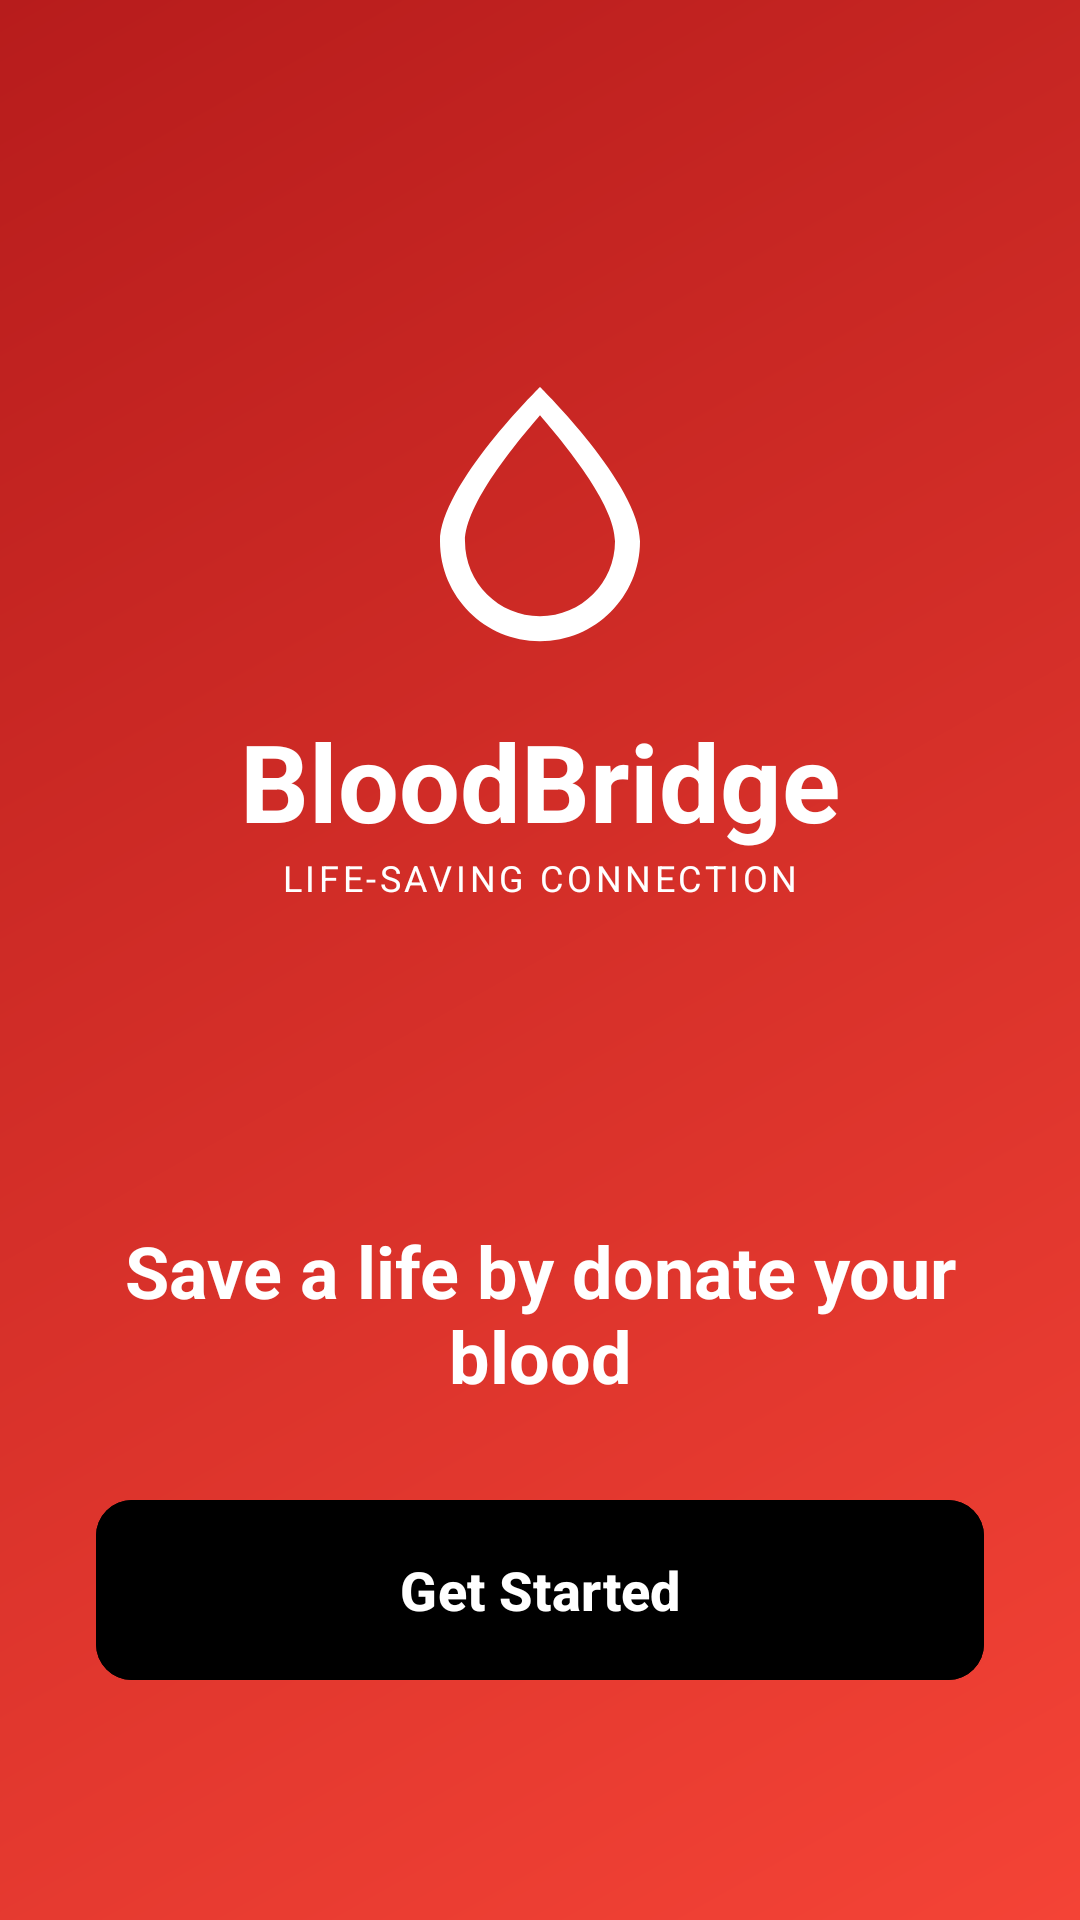

Icon bounding boxes for this 1080 × 1920 phone screenshot, format (x1, y1, x2, y2):
blood drop: (440, 387, 640, 642)
